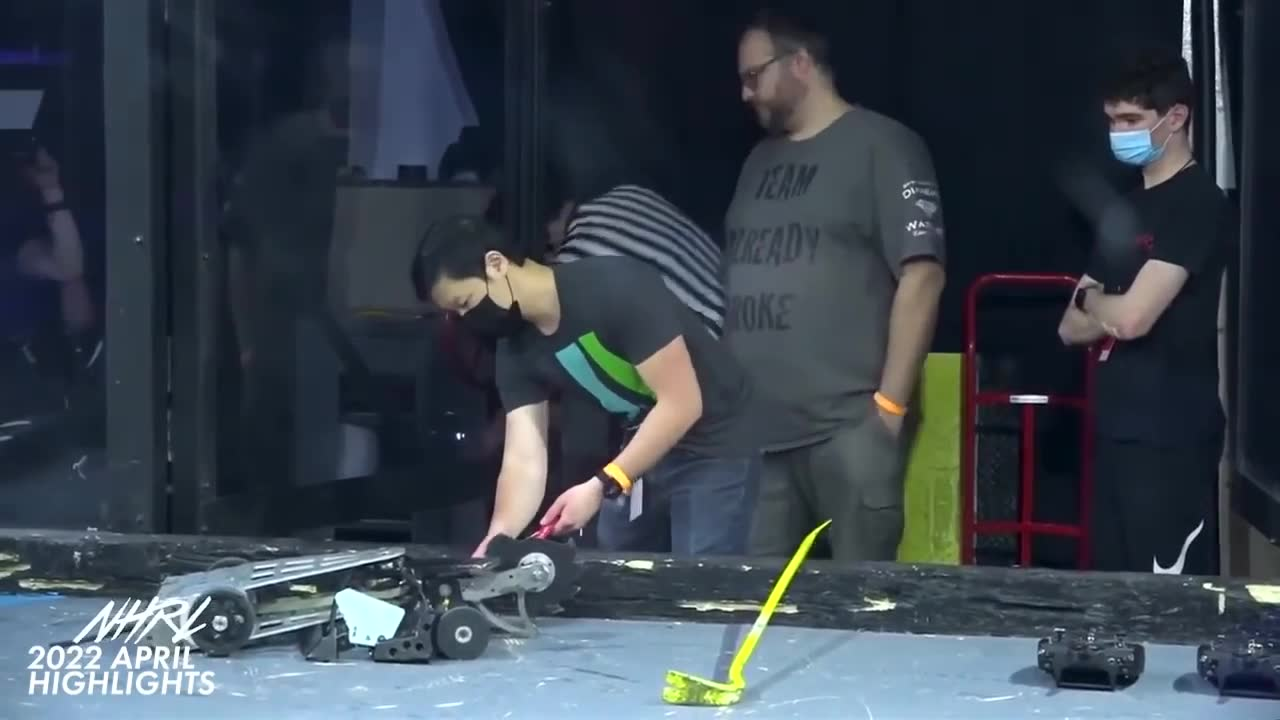combatbot: (143, 550, 412, 664), (412, 532, 556, 662)
